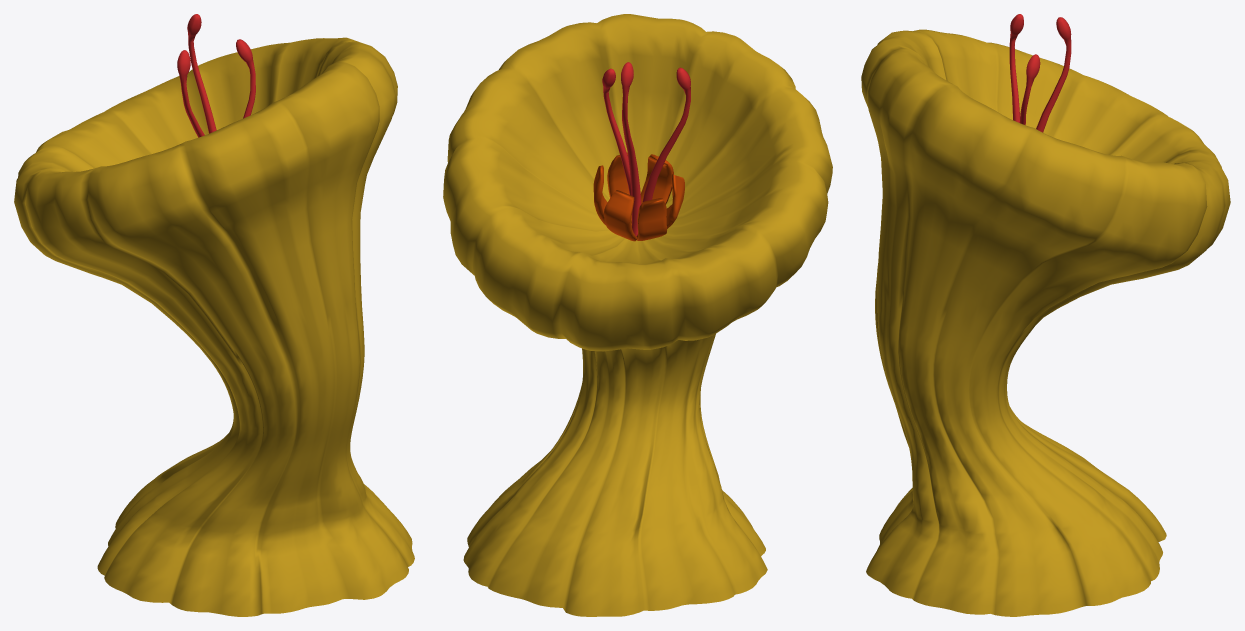
Rendered from SM_plant_02.fbx.
3 views of the same model, side by side, from view 1: azimuth 30°, elevation 25°; view 2: azimuth 150°, elevation 25°; view 3: azimuth 270°, elevation 25° (orthographic). The views are drawn at different scales.
Parts seen in each view (by area): view 1: Foliage_Create:pCube7; view 2: Foliage_Create:pCube7; view 3: Foliage_Create:pCube7.
Part boxes in pixels (x1,y1,x2,y2): Foliage_Create:pCube7: (14,14,414,616); Foliage_Create:pCube7: (443,14,832,616); Foliage_Create:pCube7: (861,14,1230,616).
Bounding box in the file's own units: 152 × 223 × 144.
